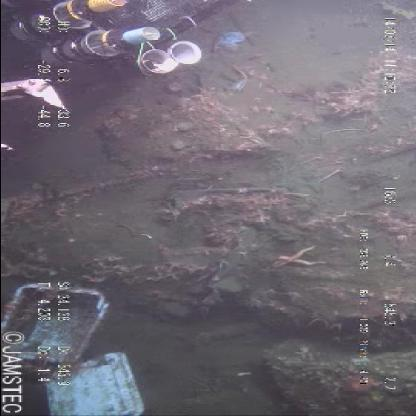Rác: (1, 262, 162, 416)
